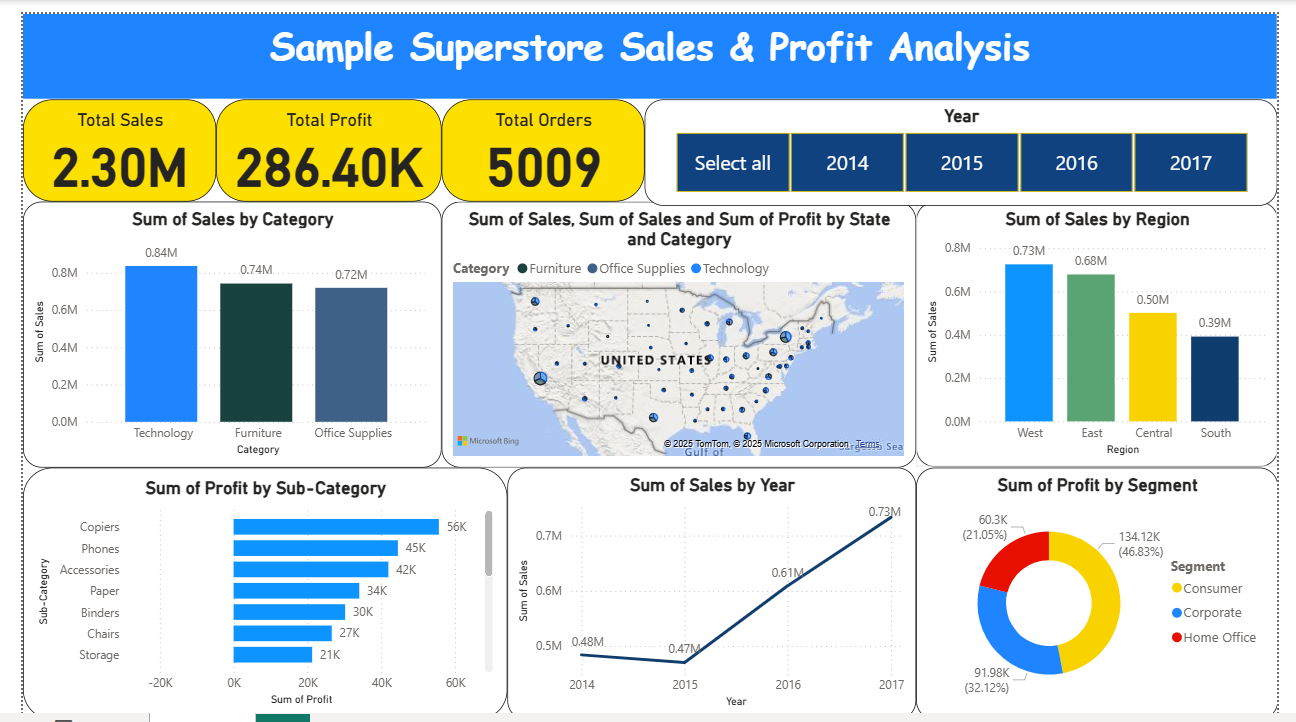

Layout of this report page (visuals, bound fields, positions):
{"tool":"powerbi","page":{"name":"Page 1","canvas":[1280,720],"ordinal":0},"visuals":[{"type":"textbox","box":[0,0,1279.5,86.5],"z":0},{"type":"card","title":"Total Sales","fields":{"Values":["Sum(Orders.Sales)"]},"box":[0,87.1,197.1,104.3],"z":1000},{"type":"card","title":"Total Profit","fields":{"Values":["Sum(Orders.Profit)"]},"box":[197.1,87.1,230,104.3],"z":2000},{"type":"card","title":"Total Orders","fields":{"Values":["Count(Orders.Order ID)"]},"box":[427.1,87.1,207.1,104.3],"z":3000},{"type":"clusteredColumnChart","fields":{"Y":["Sum(Orders.Sales)"],"Category":["Orders.Category"]},"box":[0,191.4,427.1,271.4],"z":4000},{"type":"clusteredBarChart","fields":{"Y":["Sum(Orders.Profit)"],"Category":["Orders.Sub-Category"]},"box":[0,462.9,494.3,257.1],"z":5000},{"type":"lineChart","fields":{"Category":["Orders.Order Date.Variation.Date Hierarchy.Year","Orders.Order Date.Variation.Date Hierarchy.Quarter","Orders.Order Date.Variation.Date Hierarchy.Month","Orders.Order Date.Variation.Date Hierarchy.Day"],"Y":["Sum(Orders.Sales)"]},"box":[494.3,462.9,417.1,257.1],"z":6000},{"type":"map","fields":{"Category":["Orders.State"],"Series":["Orders.Category"],"Size":["Sum(Orders.Sales)"]},"box":[427.1,191.4,484.3,271.4],"z":7000},{"type":"clusteredColumnChart","fields":{"Category":["Orders.Region"],"Y":["Sum(Orders.Sales)"]},"box":[911,191,369,271],"z":8000},{"type":"donutChart","fields":{"Category":["Orders.Segment"],"Y":["Sum(Orders.Profit)"]},"box":[911,463,369,257],"z":9000},{"type":"slicer","title":"Year","fields":{"Values":["Orders.Order Date.Variation.Date Hierarchy.Year"]},"box":[634.3,87.1,645.7,108.6],"z":10000}]}

Visuals, with their boxes in screenshot pixels (x1, y1, x2, y2), scaled from the page's 1280x720 canvas onto the 1296x722 screenshot:
textbox: x1=0, y1=0, x2=1295, y2=87
"Total Sales" card: x1=0, y1=87, x2=200, y2=192
"Total Profit" card: x1=200, y1=87, x2=432, y2=192
"Total Orders" card: x1=432, y1=87, x2=642, y2=192
clusteredColumnChart - Sum(Orders.Sales) x Orders.Category: x1=0, y1=192, x2=432, y2=464
clusteredBarChart - Sum(Orders.Profit) x Orders.Sub-Category: x1=0, y1=464, x2=500, y2=721
lineChart - Orders.Order Date.Variation.Date Hierarchy.Year x Orders.Order Date.Variation.Date Hierarchy.Quarter: x1=500, y1=464, x2=923, y2=721
map - Orders.State x Orders.Category: x1=432, y1=192, x2=923, y2=464
clusteredColumnChart - Orders.Region x Sum(Orders.Sales): x1=922, y1=192, x2=1295, y2=463
donutChart - Orders.Segment x Sum(Orders.Profit): x1=922, y1=464, x2=1295, y2=721
"Year" slicer: x1=642, y1=87, x2=1295, y2=196
